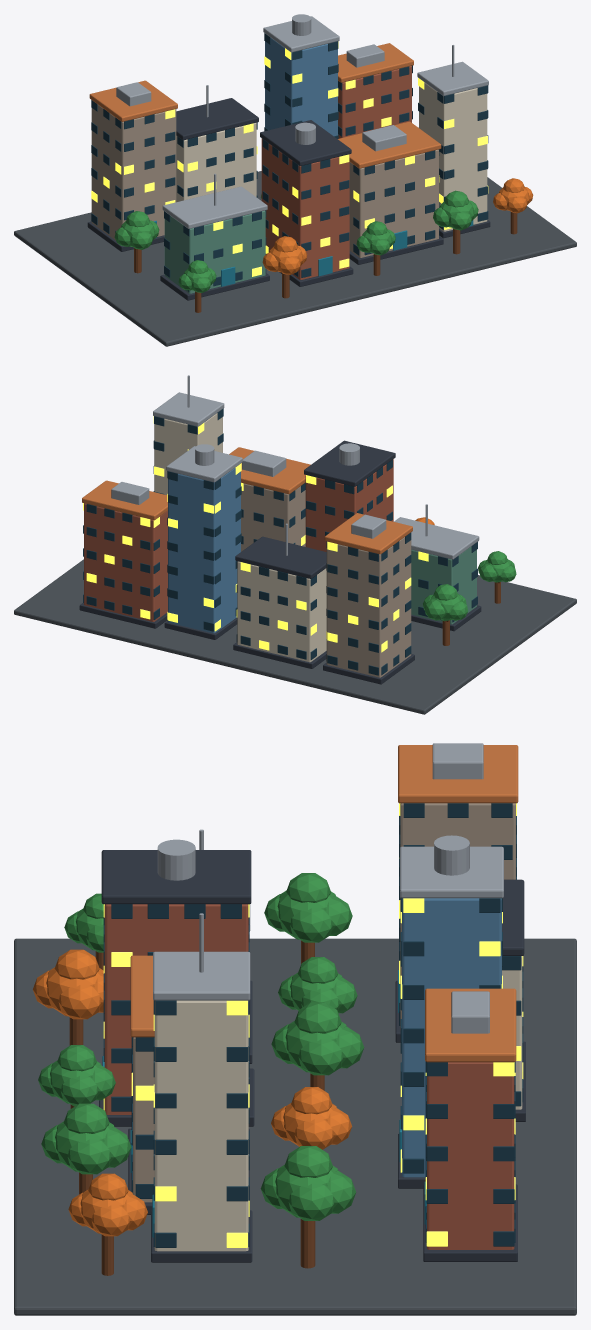
File: city_buildings_trees.fbx
3 renders of one model, top to bottom at view 1: azimuth 30°, elevation 25°; view 2: azimuth 150°, elevation 25°; view 3: azimuth 270°, elevation 25°, orthographic. The views are drawn at different scales.
Parts seen in each view (by area): view 1: Environment ground, Building 01 body, Building 06 body, Building 07 body, Building 08 body, Building 03 body, Building 05 body, Building 02 body, Building 04 body, Building 05 roof, Building 02 roof, Building 06 roof (+12 smaller); view 2: Environment ground, Building 03 body, Building 01 body, Building 04 body, Building 02 body, Building 06 body, Building 07 body, Building 05 body, Building 02 roof, Building 08 body, Building 06 roof, Building 05 roof (+14 smaller); view 3: Environment ground, Building 08 body, Building 04 body, Building 03 body, Building 06 body, Building 06 roof, Building 01 roof, Building 04 roof, Building 08 roof, Building 03 roof, Building 01 body, Building 07 body (+38 smaller).
Part boxes in pixels (box(x1,y1,x2,y2)): Environment ground: box(14, 171, 576, 346); Building 01 body: box(91, 104, 176, 240); Building 06 body: box(261, 138, 349, 279); Building 07 body: box(349, 149, 438, 257); Building 08 body: box(419, 82, 487, 231); Building 03 body: box(265, 38, 337, 136); Building 05 body: box(164, 210, 265, 293); Building 02 body: box(176, 122, 256, 202); Building 04 body: box(338, 66, 411, 138); Building 05 roof: box(162, 186, 267, 228); Building 02 roof: box(176, 98, 258, 140); Building 06 roof: box(260, 120, 351, 165); Environment ground: box(14, 559, 576, 714); Building 03 body: box(168, 468, 240, 633); Building 01 body: box(326, 537, 411, 677); Building 04 body: box(84, 503, 167, 621); Building 02 body: box(237, 561, 326, 662); Building 06 body: box(305, 459, 393, 551); Building 07 body: box(241, 483, 305, 551); Building 05 body: box(411, 546, 476, 624); Building 02 roof: box(235, 536, 326, 578); Building 08 body: box(154, 413, 222, 494); Building 06 roof: box(304, 440, 395, 486); Building 05 roof: box(394, 517, 479, 559); Environment ground: box(14, 938, 576, 1315); Building 08 body: box(154, 1000, 248, 1251); Building 04 body: box(427, 1062, 514, 1249); Building 03 body: box(402, 898, 501, 1177); Building 06 body: box(104, 904, 248, 1114); Building 06 roof: box(101, 850, 251, 904); Building 01 roof: box(398, 745, 518, 803); Building 04 roof: box(425, 988, 516, 1062); Building 08 roof: box(153, 951, 250, 1000); Building 03 roof: box(400, 846, 503, 898); Building 01 body: box(400, 803, 515, 1029); Building 07 body: box(133, 1037, 154, 1202).
Size of the model in its own units: 2800 by 1187 by 1800.
